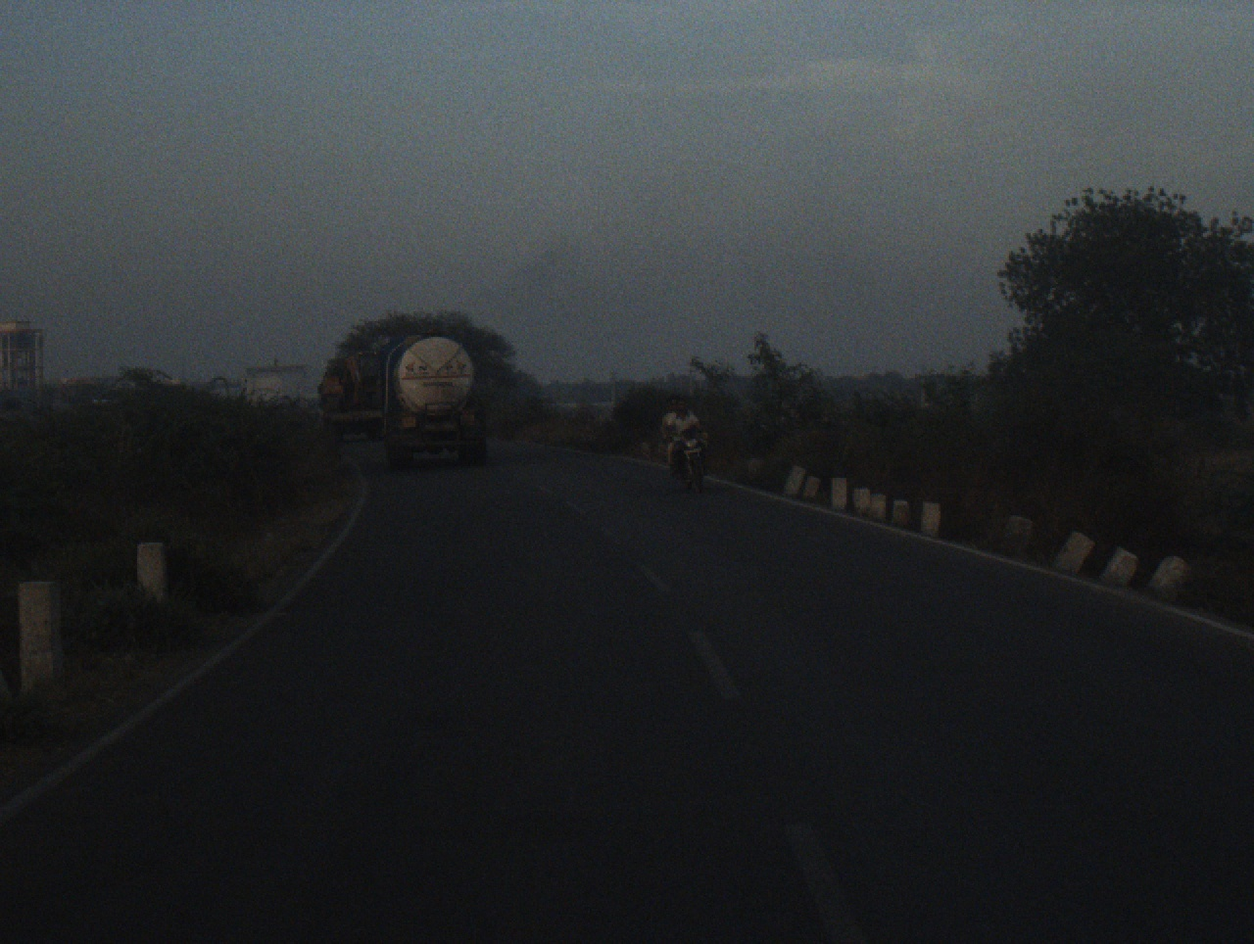motorcycle: (667, 418, 715, 492)
rider: (662, 394, 712, 477)
truck: (381, 333, 501, 470)
vehicle fallback: (318, 351, 388, 433)
